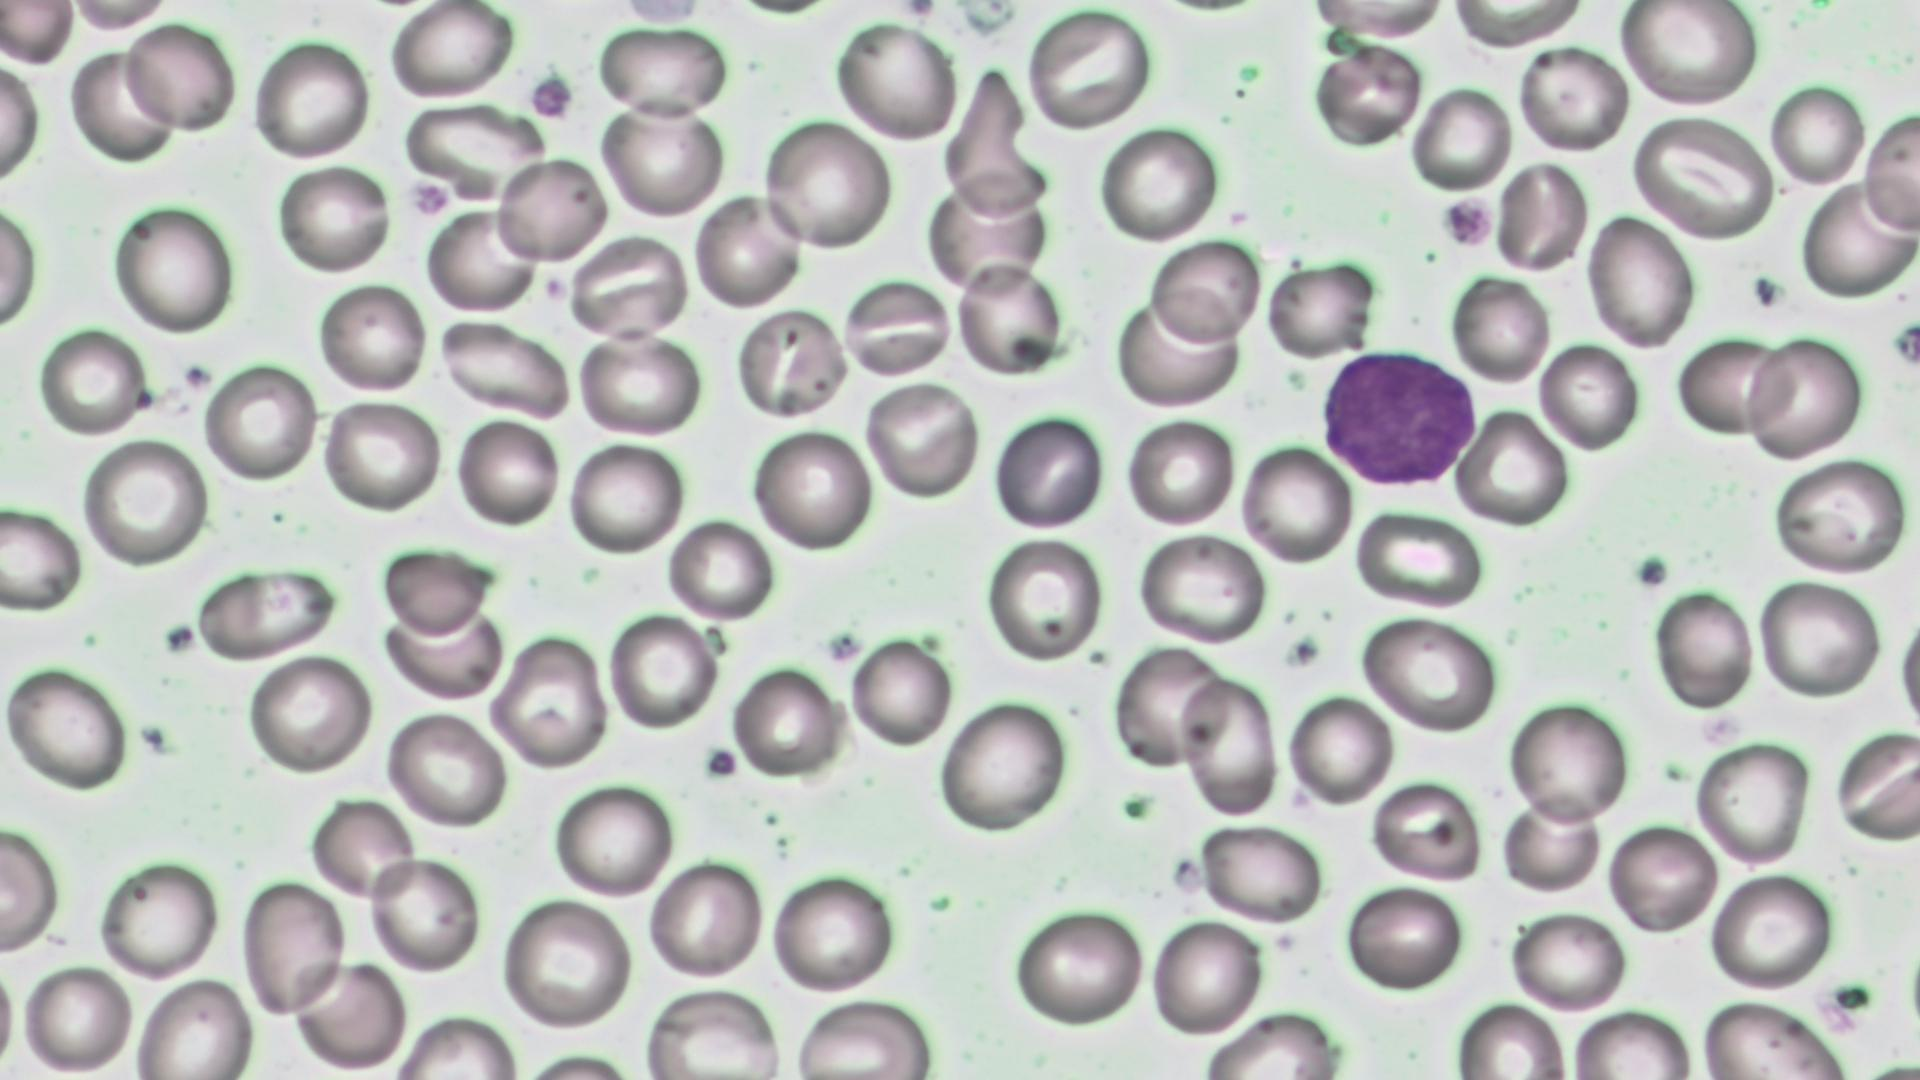Platelets: (1440, 194, 1496, 250), (1887, 319, 1920, 376), (161, 620, 200, 658)
RBC: (935, 695, 1073, 835), (760, 113, 893, 256), (499, 892, 634, 1032), (1629, 112, 1776, 240), (937, 58, 1048, 224), (1767, 453, 1914, 577), (79, 434, 211, 570), (108, 198, 237, 337), (1007, 902, 1147, 1030), (3, 660, 131, 796), (766, 869, 901, 997), (1023, 4, 1154, 134), (1507, 694, 1632, 830), (596, 95, 728, 223), (747, 423, 874, 556), (1358, 615, 1501, 733), (1707, 868, 1839, 994), (1743, 330, 1866, 464), (488, 633, 608, 770), (1582, 208, 1696, 352), (1754, 574, 1882, 702), (832, 17, 960, 145), (239, 874, 349, 1022), (93, 854, 221, 980), (243, 652, 374, 775), (644, 853, 766, 985), (250, 34, 372, 165), (1112, 291, 1244, 412), (1614, 2, 1761, 110), (1692, 736, 1812, 868), (984, 533, 1104, 665), (1109, 641, 1225, 777), (922, 176, 1051, 298), (1135, 530, 1270, 646), (1096, 121, 1222, 245), (1177, 672, 1282, 820), (1147, 913, 1267, 1042), (384, 706, 507, 830), (551, 778, 675, 901), (1238, 439, 1354, 569), (320, 395, 444, 515), (367, 850, 483, 978), (200, 359, 318, 484), (1798, 178, 1916, 302), (399, 102, 548, 200), (434, 316, 574, 420), (1454, 403, 1569, 529), (290, 956, 411, 1074), (564, 439, 685, 557), (194, 564, 339, 662), (121, 18, 238, 139), (863, 381, 980, 502), (1672, 330, 1796, 444), (991, 408, 1105, 532), (19, 956, 137, 1075), (1605, 818, 1722, 938), (273, 161, 394, 277), (953, 258, 1067, 380), (1340, 882, 1466, 992), (572, 332, 700, 440), (1195, 821, 1324, 928), (605, 610, 716, 734), (732, 304, 848, 422), (131, 972, 257, 1080), (1351, 505, 1483, 608), (1515, 41, 1632, 157), (313, 281, 429, 398), (1124, 412, 1238, 531), (594, 22, 733, 119), (1650, 585, 1755, 712), (423, 203, 542, 315), (1285, 690, 1396, 809), (729, 663, 840, 782), (384, 2, 514, 103), (34, 323, 149, 437), (568, 232, 690, 339), (492, 153, 606, 267), (1148, 235, 1264, 347), (452, 413, 562, 531), (1446, 267, 1554, 387), (1534, 337, 1642, 456), (1508, 908, 1628, 1015), (70, 45, 175, 167), (692, 192, 800, 310), (845, 633, 952, 752), (1264, 256, 1381, 364), (382, 602, 506, 702), (1409, 81, 1514, 196), (308, 792, 416, 903), (664, 516, 777, 621), (1369, 779, 1483, 883), (1311, 42, 1419, 151), (1767, 76, 1869, 191), (840, 277, 954, 378), (381, 542, 499, 638), (1492, 158, 1588, 273), (1497, 796, 1605, 895), (1832, 727, 1918, 846), (1, 497, 84, 617), (0, 820, 64, 956), (1863, 107, 1920, 240), (1444, 0, 1590, 48), (0, 41, 44, 196), (0, 188, 42, 341), (0, 2, 77, 65), (608, 0, 707, 26)
WBC: (1319, 343, 1478, 491)
